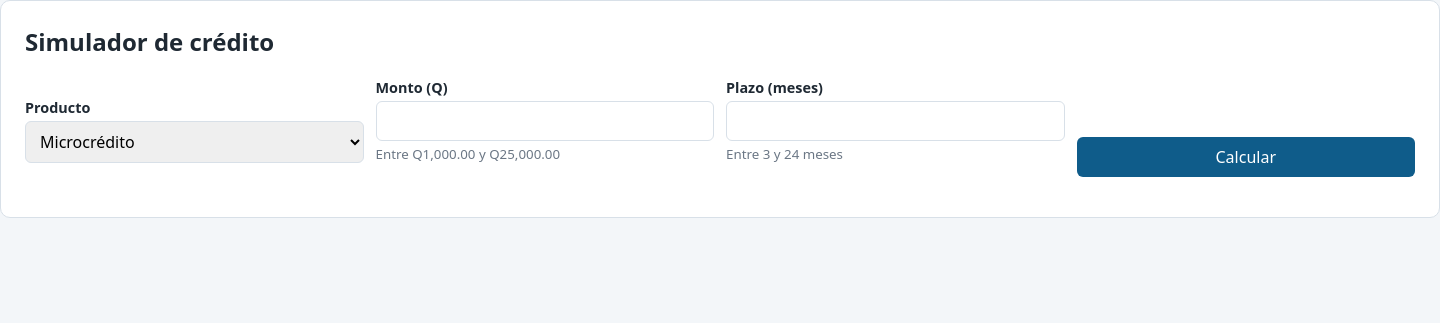
Test case: Simulador (API simulada con stub de fetch) › muestra el error del servidor cuando el monto está fuera de rango
Expected: the text "Entre Q1,000.00 y Q25,000.00" is shown, [376,145,560,163]
In the number field labelled "Monto (Q) Entre Q1,000.00 y Q25,000.00": (545, 121) [376,101,714,141], type "999"
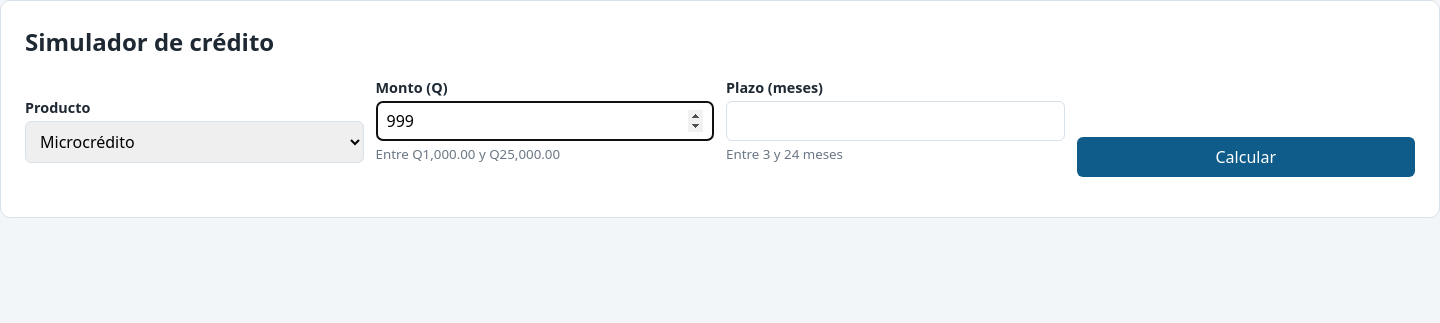
In the number field labelled "Plazo (meses) Entre 3 y 24 meses": (895, 121) [726,101,1064,141], type "12"
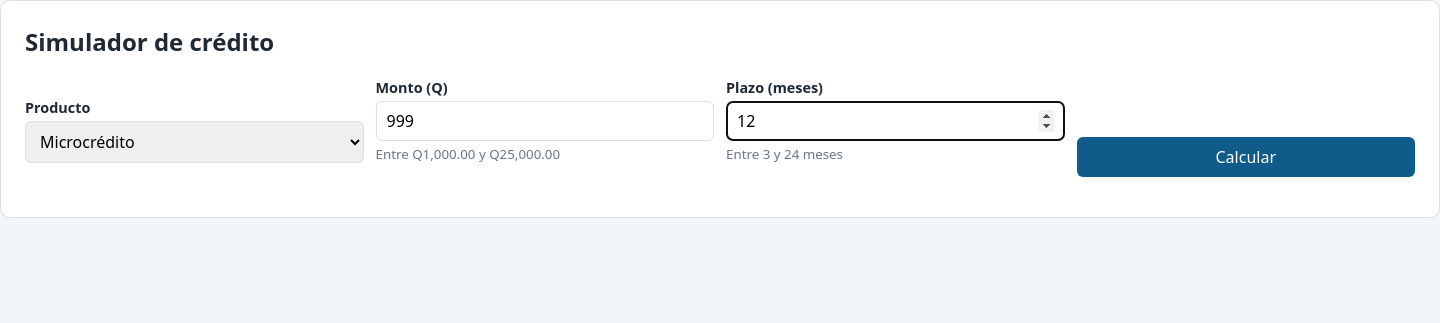
Click the button "Calcular": (1246, 157) [1076,137,1415,177]
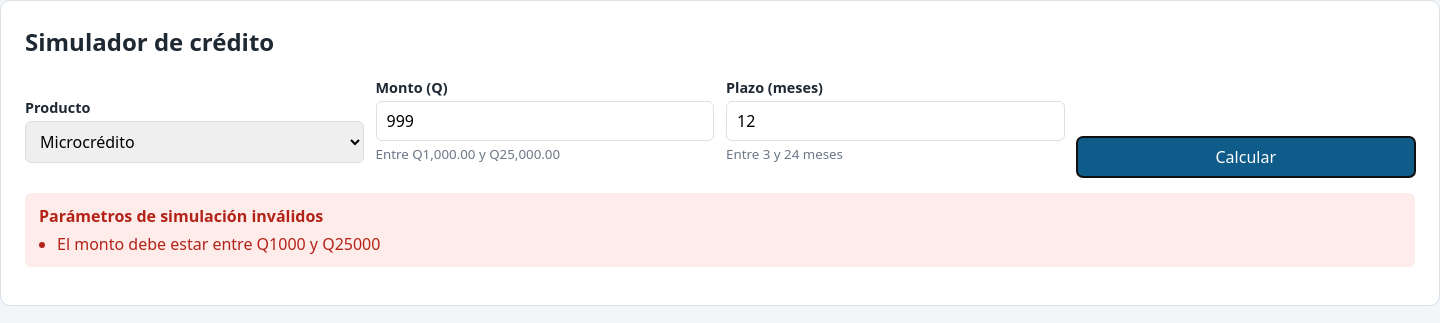
Now the message shows "El monto debe estar entre Q1000 y Q25000", box [57,233,380,255]
